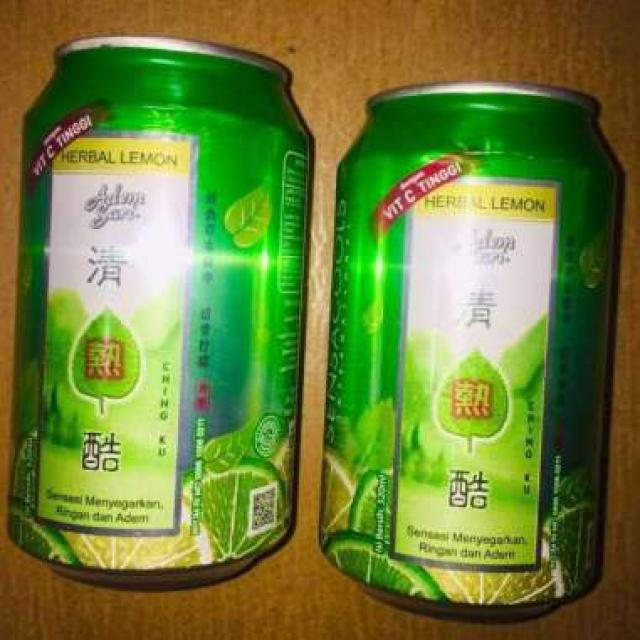ademsarikaleng: (5, 30, 314, 591), (316, 78, 626, 623)
